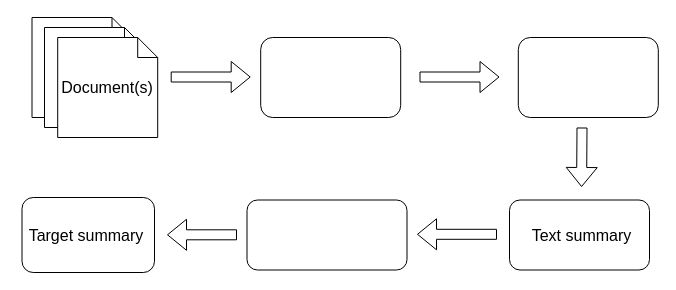
Some shapes in this 676 by 290 pixel diagram are drawn without their labels. The shapes that lost their labels are listed below. From the top down, each one's box as (x1, y1, x2, y2) in pixels, then its label:
(260, 36, 401, 118): Document segmentation
(517, 36, 658, 118): Pre-processing
(246, 199, 407, 270): Post - processing
